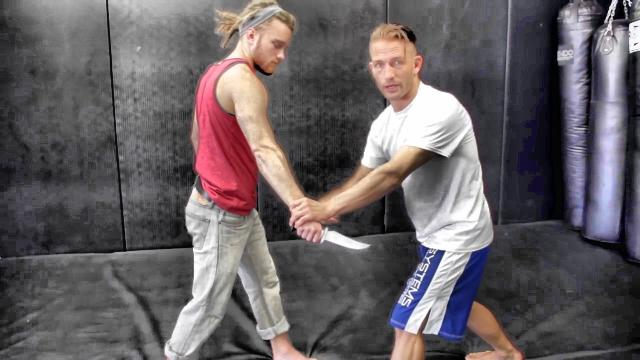knife: (290, 225, 372, 255)
